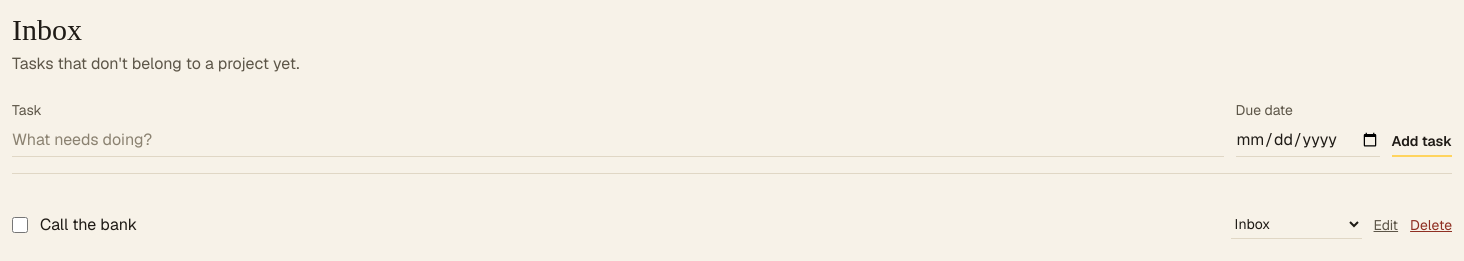
Test: Inbox screen › moves a task out of the Inbox into a project
Select "Website relaunch" in the dropdown named "Move “Call the bank” to" at (1296, 224), box top-left (1230, 210), bottom-right (1362, 239)
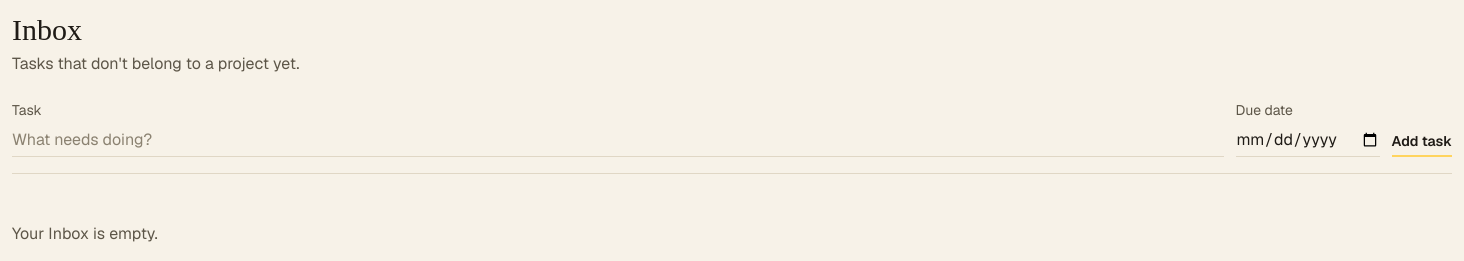
expect the label "Call the bank" is gone: met
expect the text "Your Inbox is empty." is shown: met, box top-left (12, 223), bottom-right (158, 244)
